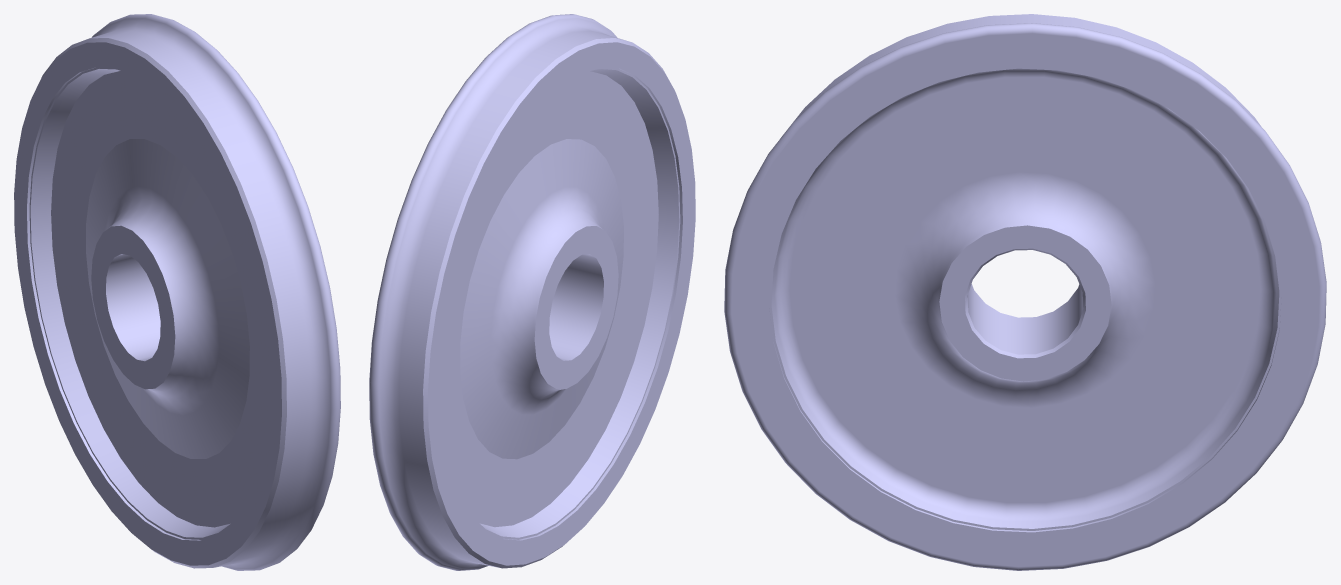
The model's file is 车轮改.FBX.
3 views of the same model, side by side, from view 1: azimuth 30°, elevation 25°; view 2: azimuth 150°, elevation 25°; view 3: azimuth 270°, elevation 25° (orthographic). The views are drawn at different scales.
Visible parts, largest first — view 1: PartBody; view 2: PartBody; view 3: PartBody.
Part boxes in pixels (x1=…): PartBody: x1=14, y1=14, x2=340, y2=570; PartBody: x1=369, y1=14, x2=695, y2=570; PartBody: x1=724, y1=14, x2=1326, y2=570.
Size of the model in its own units: 7.72 by 51.4 by 51.35.
